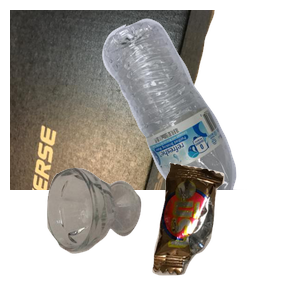cardboard: (10, 10, 217, 190)
glass: (44, 165, 178, 300)
plastic: (100, 16, 300, 196)
trash: (150, 160, 300, 300)
